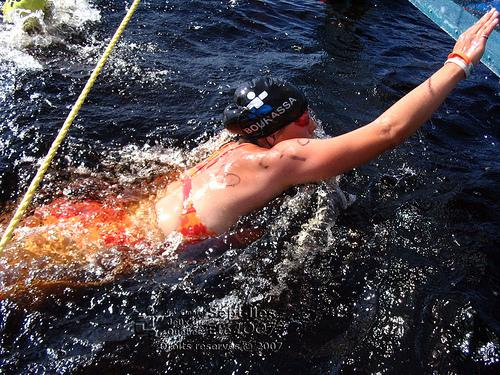human: (0, 6, 500, 298)
